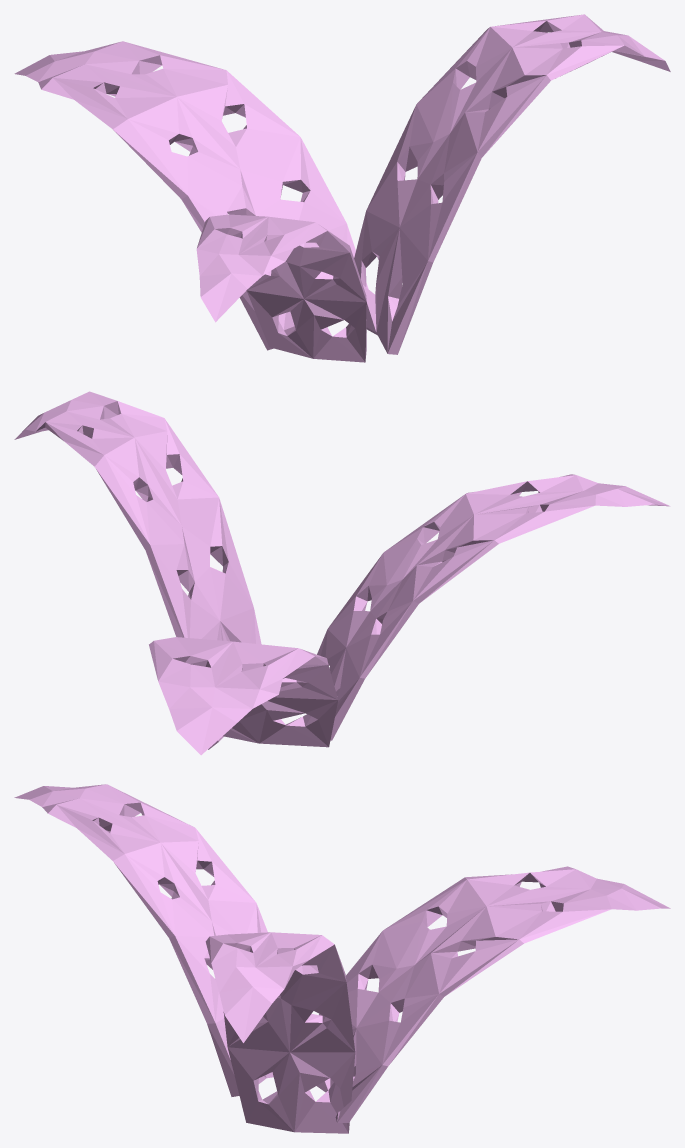
File: NC_Plant03.fbx
3 views of the same model, one above another, from view 1: azimuth 30°, elevation 25°; view 2: azimuth 150°, elevation 25°; view 3: azimuth 270°, elevation 25° (orthographic). The views are drawn at different scales.
Parts seen in each view (by area): view 1: NC_Plant03; view 2: NC_Plant03; view 3: NC_Plant03.
Boxes of the visible parts, box(x1,y1,x2,y2) form: NC_Plant03: box(14, 14, 670, 362); NC_Plant03: box(14, 391, 670, 755); NC_Plant03: box(14, 784, 670, 1133).
Bounding box in the file's own units: 62.85 × 29.45 × 66.16.
Materials: 1 (1 with a texture image).
